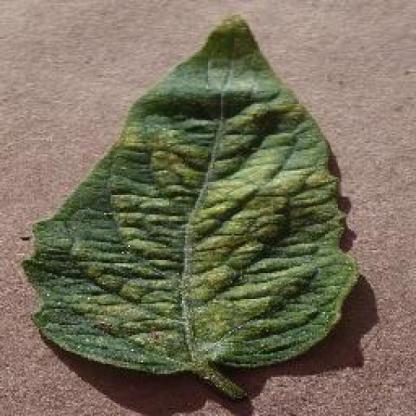Tomato_Spider_Mites: (25, 14, 362, 370)
